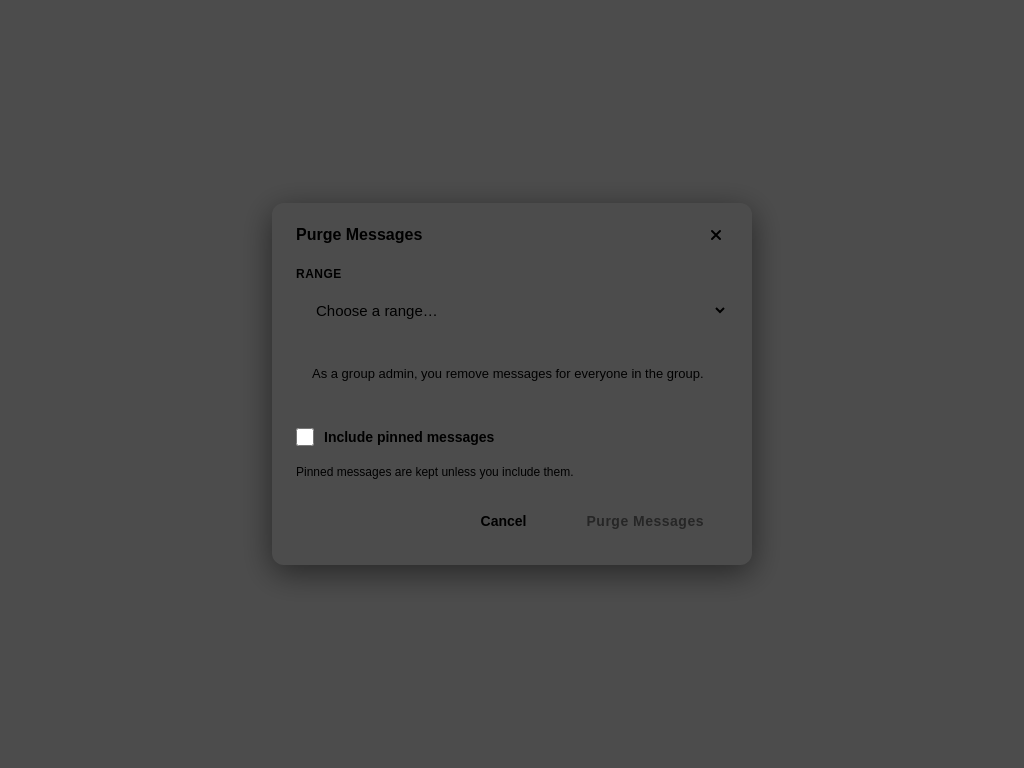
Test case: PurgeMessagesModal — include pinned messages (#3458) › group (admin, self-scope false) reads the right pin sentence
Step 1. Select "Last 7 days" in the dropdown labelled "Range" → point(512, 310), box [296, 289, 728, 332]
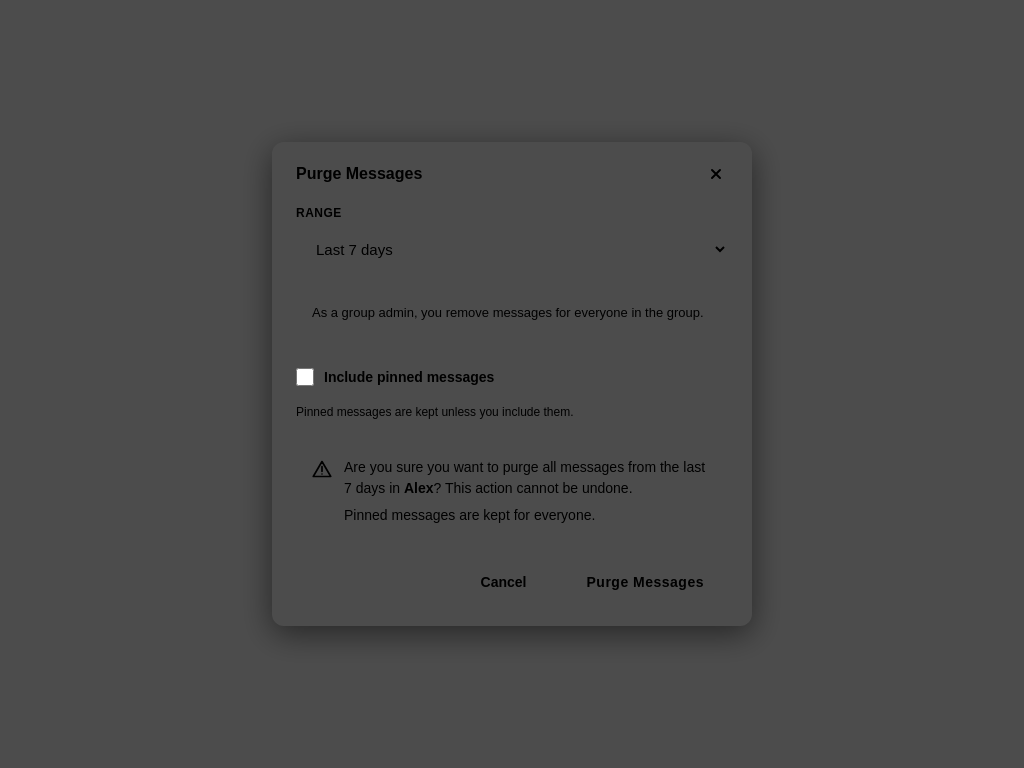
Check: the text "Pinned messages are kept for everyone." is shown, box [344, 507, 595, 523]
Step 2. Click the checkbox labelled "Include pinned messages" → point(305, 377), box [296, 368, 314, 386]
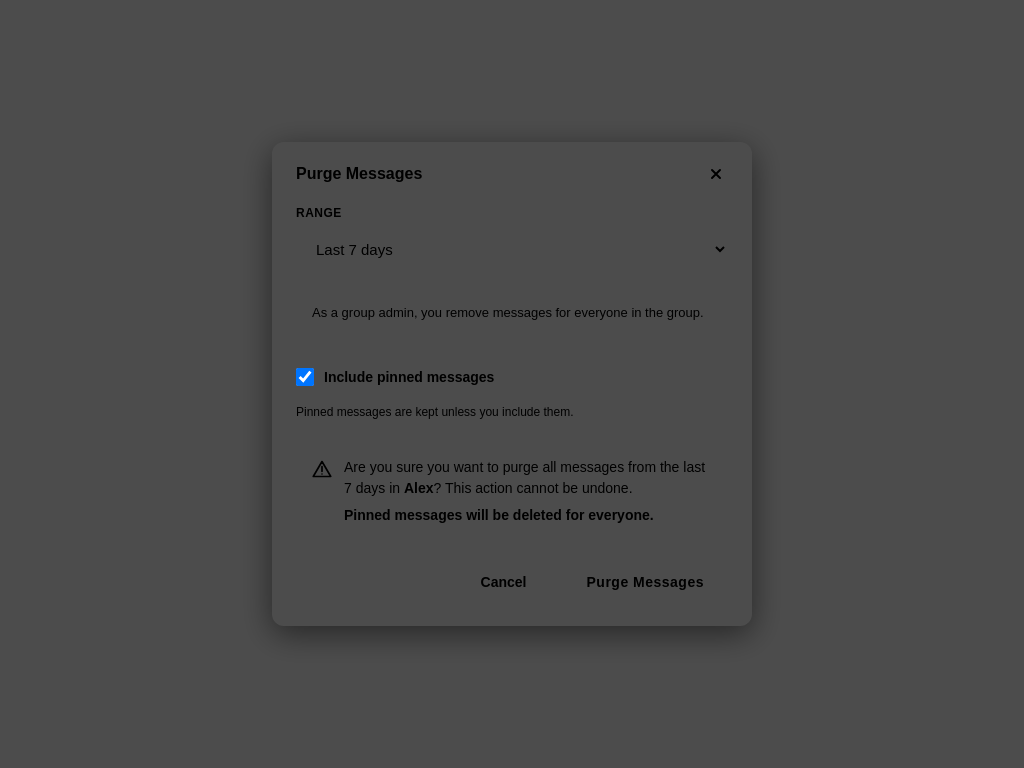
Check: the text "Pinned messages will be deleted for everyone." is shown, box [344, 507, 654, 523]
